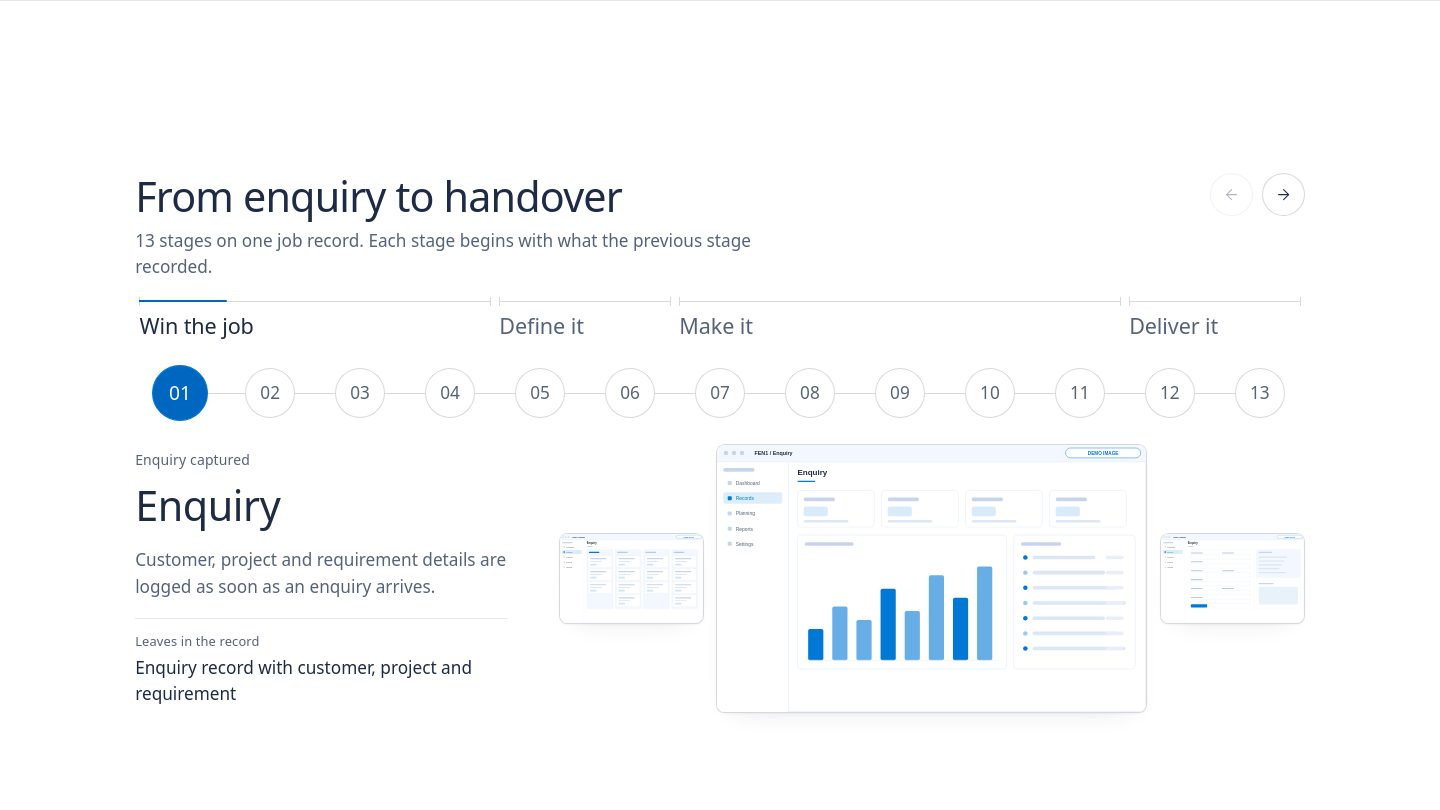
it: Workflow (scroll-driven) › has Previous and Next arrows that scroll the page to the stage before or after, and are off at the ends
Expected: the button named "Previous stage" is disabled, [1210,173,1253,216]
Click the button named "Next stage" at (1283, 195), box [1262,173,1305,216]
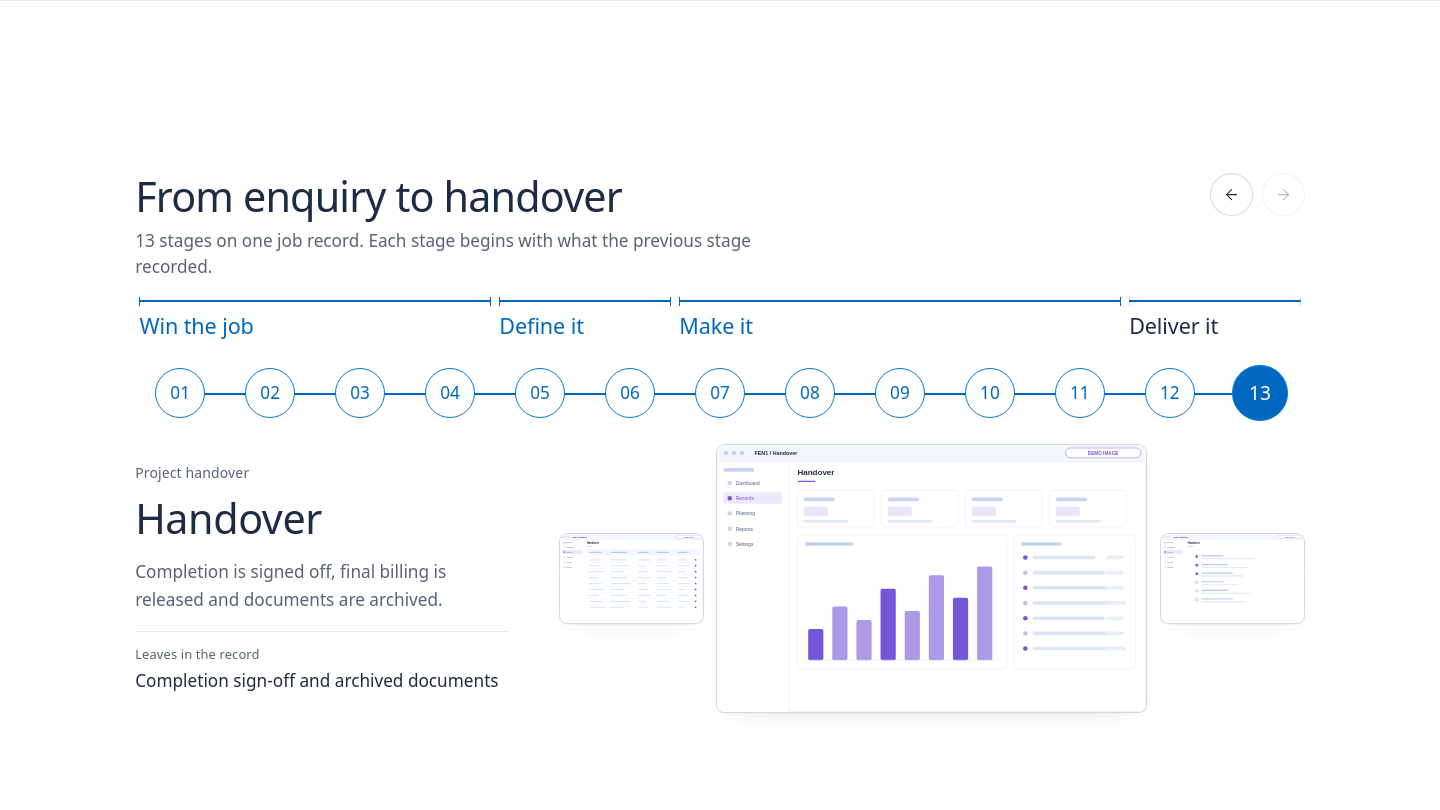
Result: the button named "Next stage" is disabled at [1262,173,1305,216]
Result: the button named "Previous stage" is enabled at [1210,173,1253,216]
